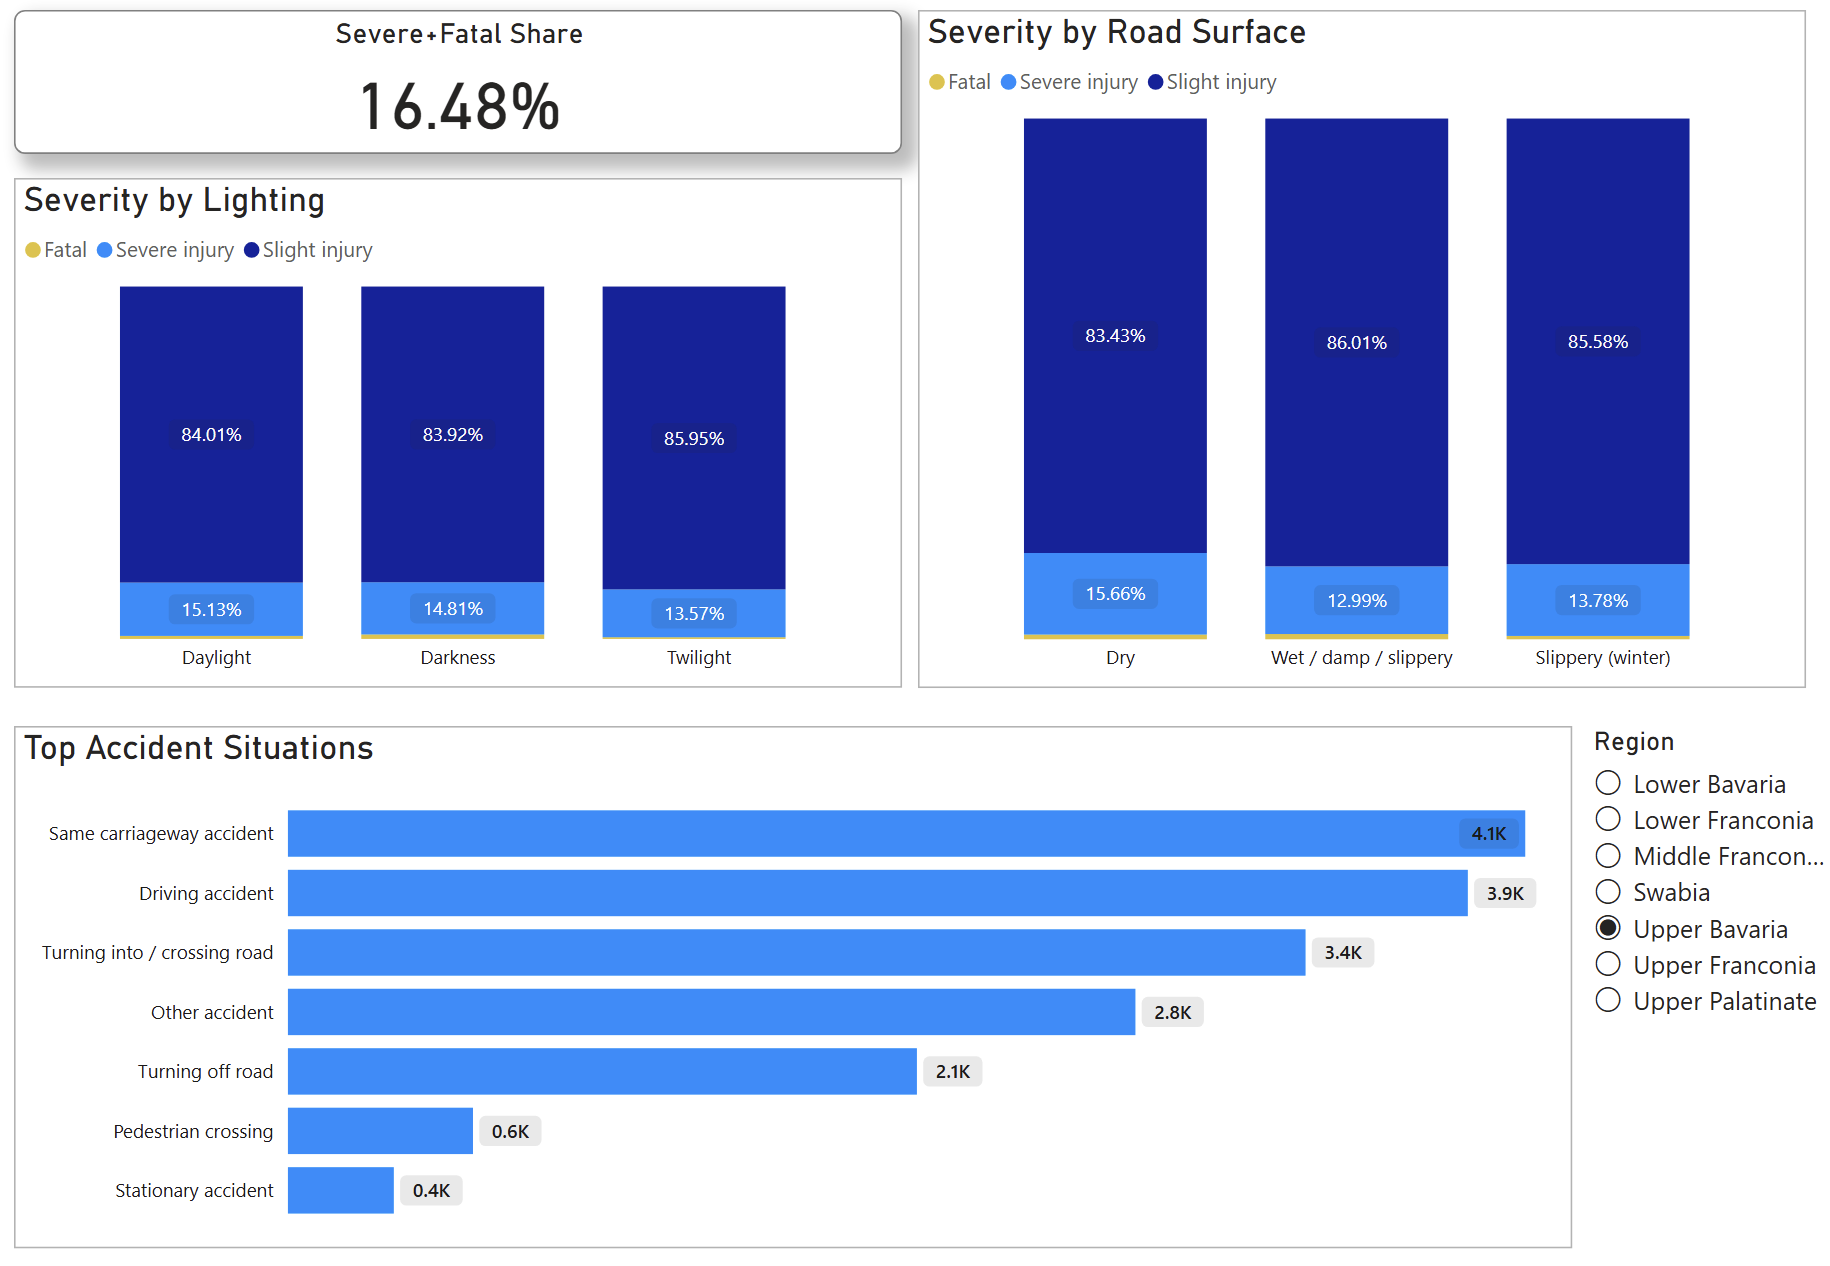

What the dashboard file says about the page in this screenshot:
{"tool":"powerbi","page":{"name":"Severity & Conditions","canvas":[1170,820],"ordinal":2},"visuals":[{"type":"card","title":"Severe+Fatal Share","fields":{"Values":["Measures Table.Severe+Fatal %"]},"box":[11.4,12.7,564.5,91.5],"z":0},{"type":"hundredPercentStackedColumnChart","title":"Severity by Lighting","fields":{"Y":["Measures Table.Total Accidents"],"Category":["Fact_Accident.lighting_conditions_label"],"Series":["Fact_Accident.severity_label"]},"box":[11.1,119.5,564.3,323.8],"z":1000},{"type":"hundredPercentStackedColumnChart","title":"Severity by Road Surface","fields":{"Y":["Measures Table.Total Accidents"],"Category":["Fact_Accident.road_condition_label"],"Series":["Fact_Accident.severity_label"]},"box":[586.5,12.5,564.3,430.8],"z":2000},{"type":"clusteredBarChart","title":"Top Accident Situations","fields":{"Category":["Fact_Accident.accident_situation_label"],"Y":["Measures Table.Total Accidents"]},"box":[11.4,467.8,990.4,331.8],"z":3000},{"type":"listSlicer","fields":{"Values":["dim_district.region_name_en"]},"box":[1010.7,467.8,158.9,217.4],"z":4000}]}

Visuals, with their boxes in screenshot pixels (x1, y1, x2, y2), scaled from the page's 1170x820 canvas onto the 1830x1266 screenshot:
"Severe+Fatal Share" card: [18, 20, 901, 161]
"Severity by Lighting" hundredPercentStackedColumnChart: [17, 184, 900, 684]
"Severity by Road Surface" hundredPercentStackedColumnChart: [917, 19, 1800, 684]
"Top Accident Situations" clusteredBarChart: [18, 722, 1567, 1235]
listSlicer - dim_district.region_name_en: [1581, 722, 1829, 1058]
